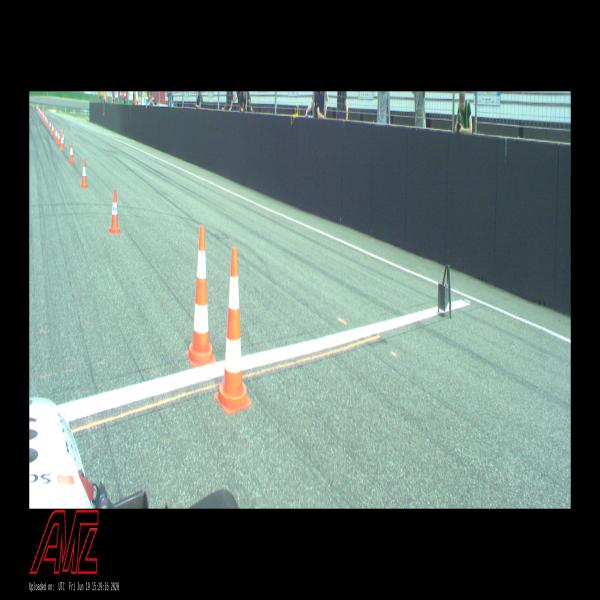large_orange_cone: (214, 247, 251, 414), (186, 226, 216, 366)
orange_cone: (109, 190, 121, 233), (81, 159, 88, 188), (69, 142, 74, 164), (54, 128, 58, 141), (61, 133, 64, 149), (57, 129, 60, 144), (62, 130, 64, 146), (52, 123, 54, 135), (49, 120, 51, 130), (46, 117, 48, 126), (45, 116, 47, 124), (43, 114, 45, 120)
